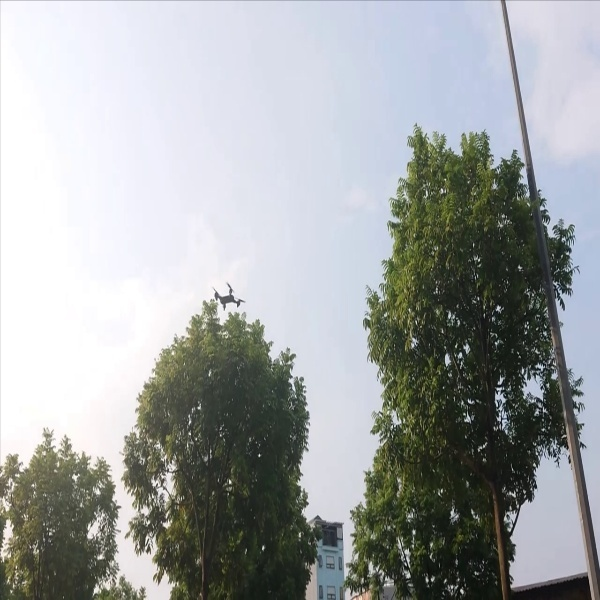drone: (207, 283, 248, 311)
